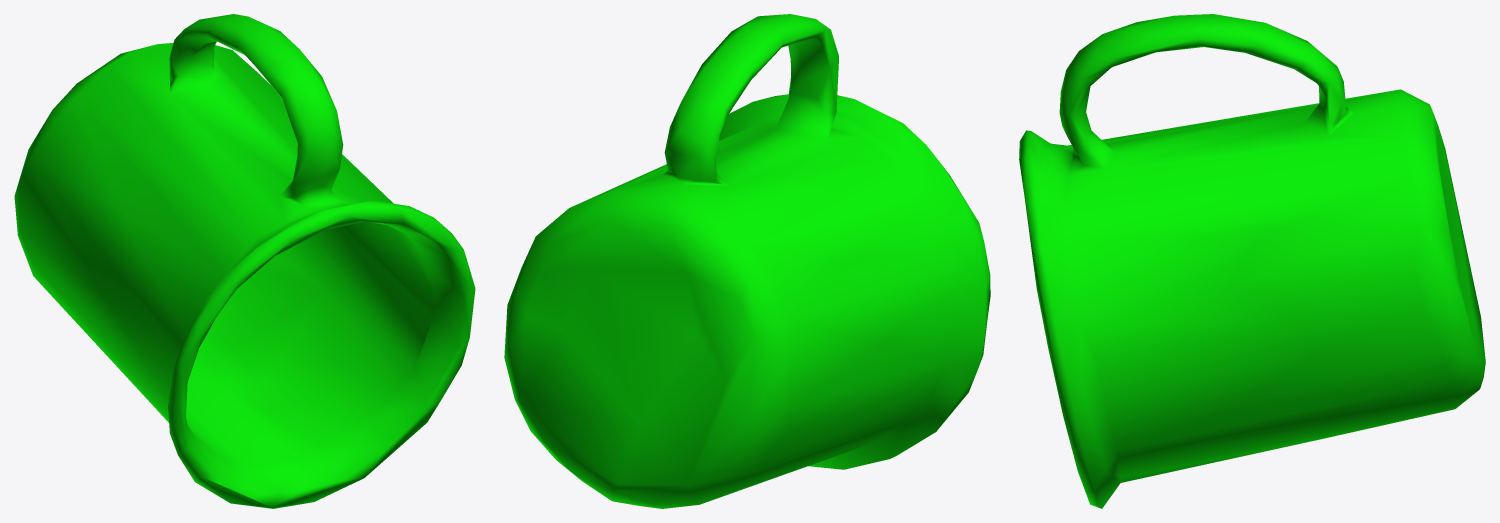
File: mug3_4.dae
The picture shows the model from 3 angles, left to right: view 1: azimuth 30°, elevation 25°; view 2: azimuth 150°, elevation 25°; view 3: azimuth 270°, elevation 25°; orthographic projection. The views are drawn at different scales.
Visible parts, largest first — view 1: RedCup_800_tex; view 2: RedCup_800_tex; view 3: RedCup_800_tex.
Part boxes in pixels (x1,y1,x2,y2): RedCup_800_tex: (14,14,475,508); RedCup_800_tex: (504,14,990,508); RedCup_800_tex: (1019,14,1485,508).
Bounding box in the file's own units: 0.1961 × 0.2414 × 0.2688.
